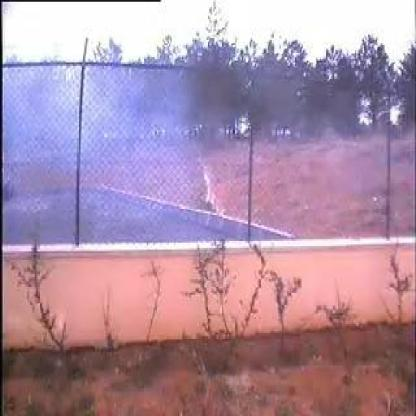-: (38, 67, 212, 242)
